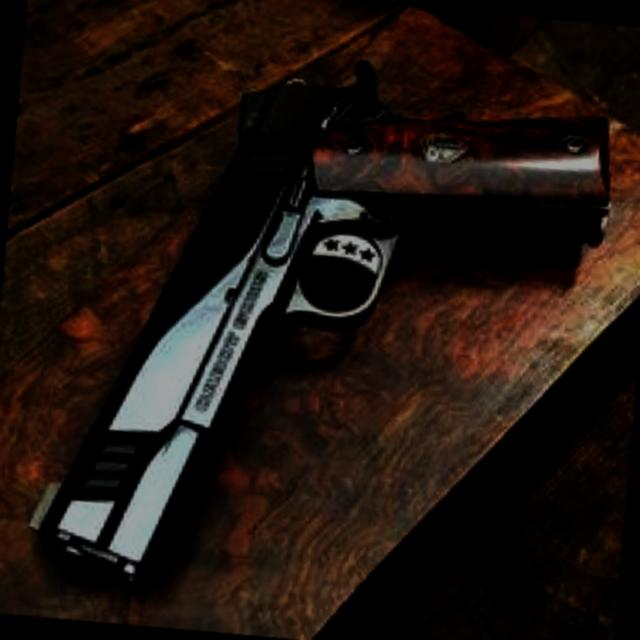semi automatic: (19, 7, 632, 640)
